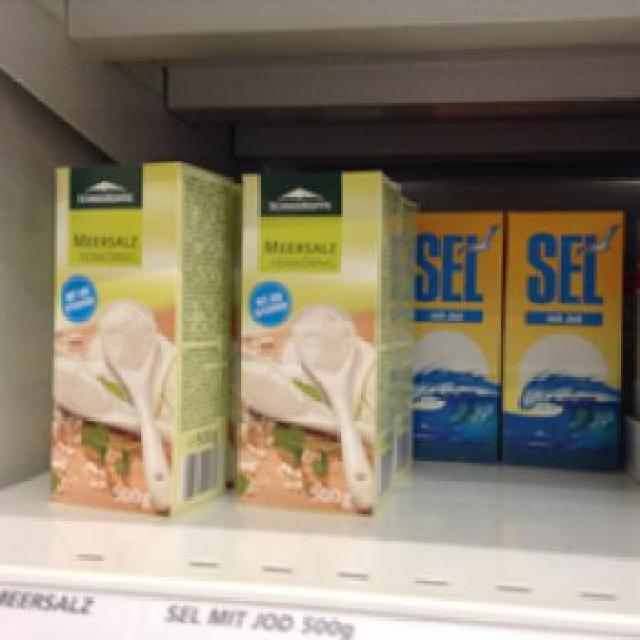Spices: (42, 155, 232, 514), (232, 165, 398, 518), (497, 208, 626, 472)
